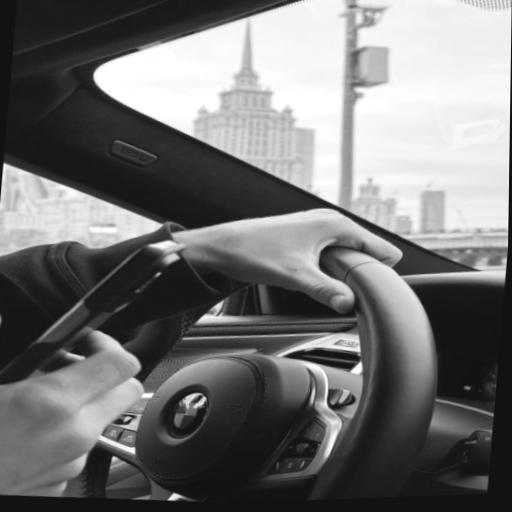Hands-on-the-Wheel: (188, 178, 429, 331)
